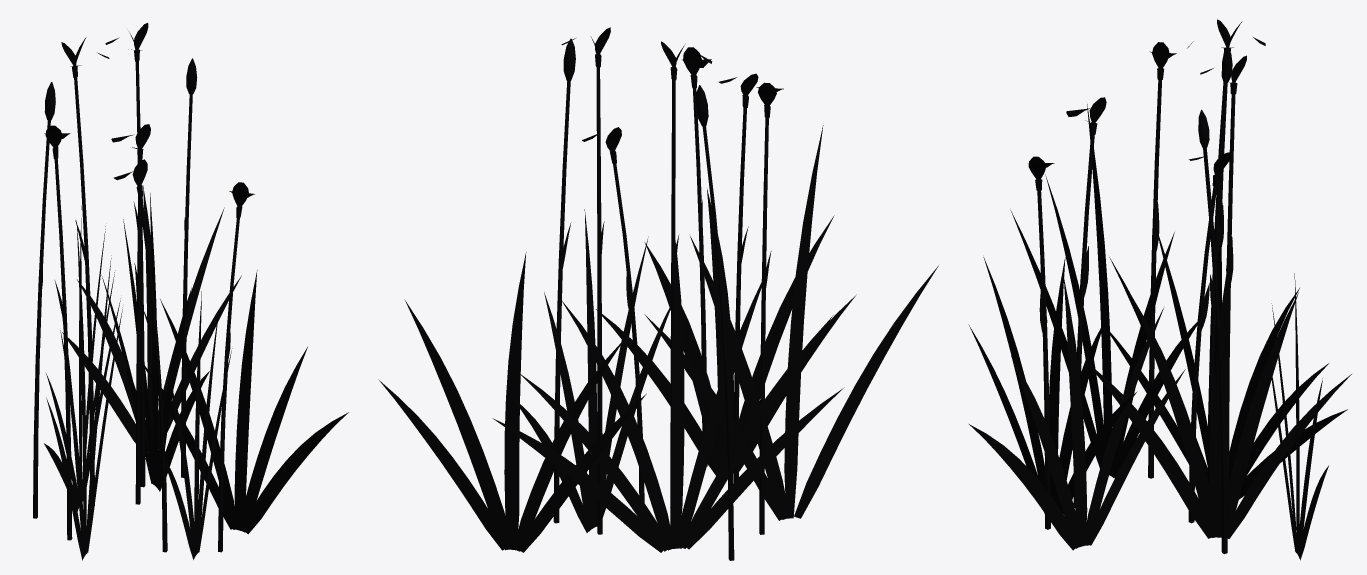
File: treeKitsuneIris.fbx
3 renders of one model, left to right at view 1: azimuth 30°, elevation 25°; view 2: azimuth 150°, elevation 25°; view 3: azimuth 270°, elevation 25°, orthographic. The views are drawn at different scales.
Parts seen in each view (by area): view 1: treeKitsuneIris; view 2: treeKitsuneIris; view 3: treeKitsuneIris.
Boxes of the visible parts, left/top/right/bottom form: treeKitsuneIris: left=33, top=23, right=348, bottom=560; treeKitsuneIris: left=378, top=27, right=938, bottom=560; treeKitsuneIris: left=968, top=19, right=1351, bottom=560.
Bounding box in the file's own units: 0.7022 × 0.8953 × 0.6446.
Materials: 1 (1 with a texture image).
